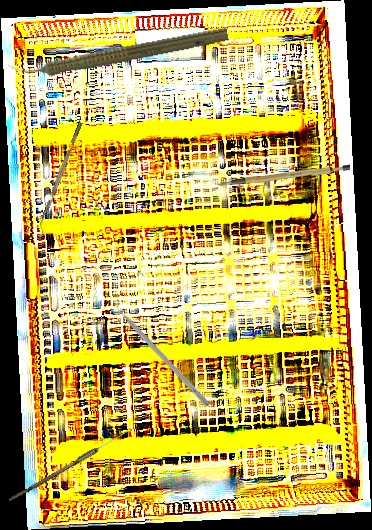Chopper: (110, 295, 216, 408), (35, 121, 88, 233)
Handpiece: (7, 18, 230, 87)
Scalpel Handle: (216, 160, 351, 189)
Surgical Spoon: (8, 427, 130, 505)
